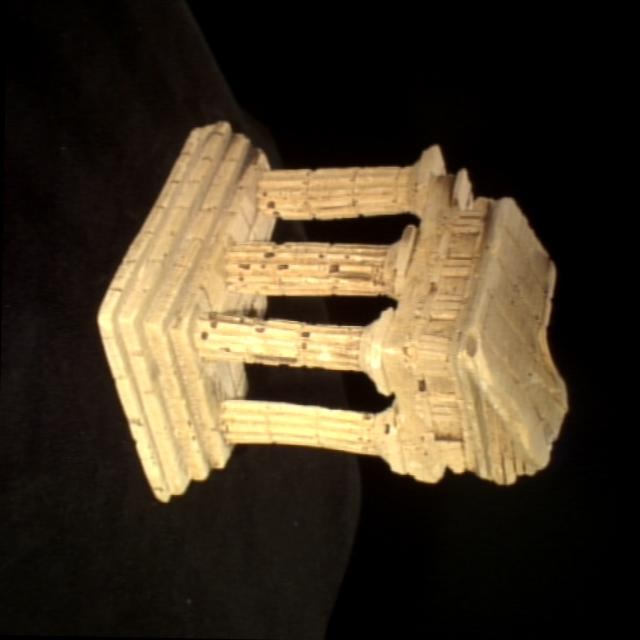Instance-Segmentation: (97, 122, 565, 500)
